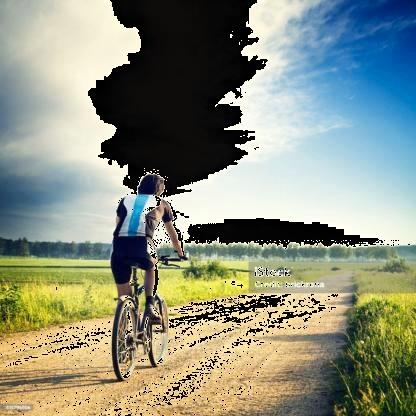Bicycle: (72, 245, 176, 387)
